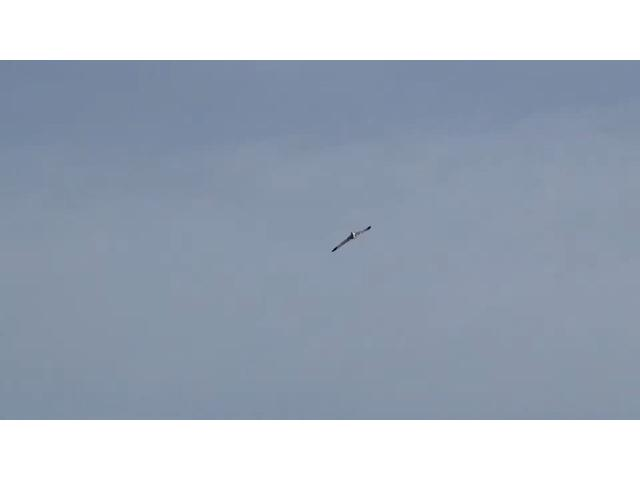Anti-Drone: (332, 227, 371, 253)
